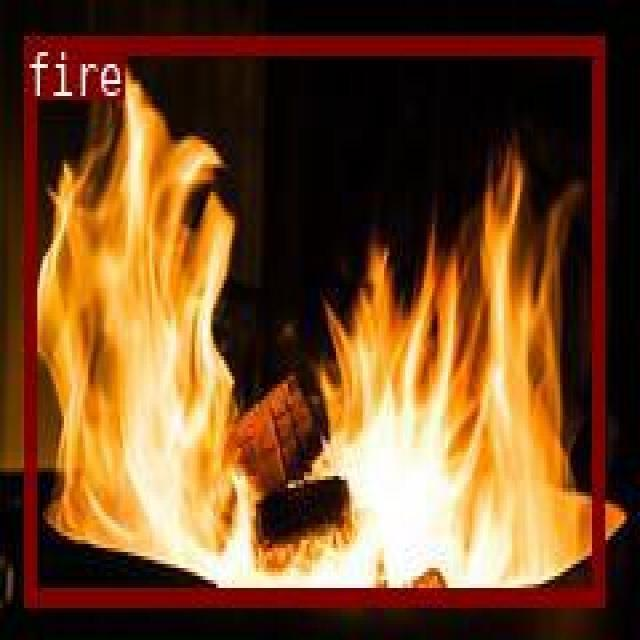fire: (22, 35, 600, 604)
